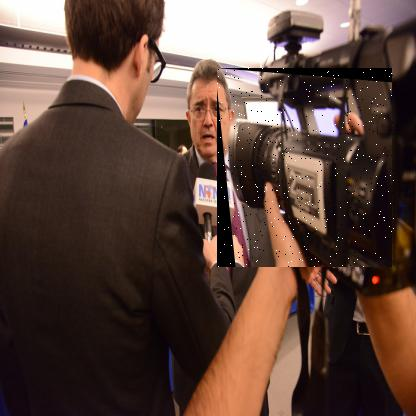Camera: (219, 69, 397, 269)
